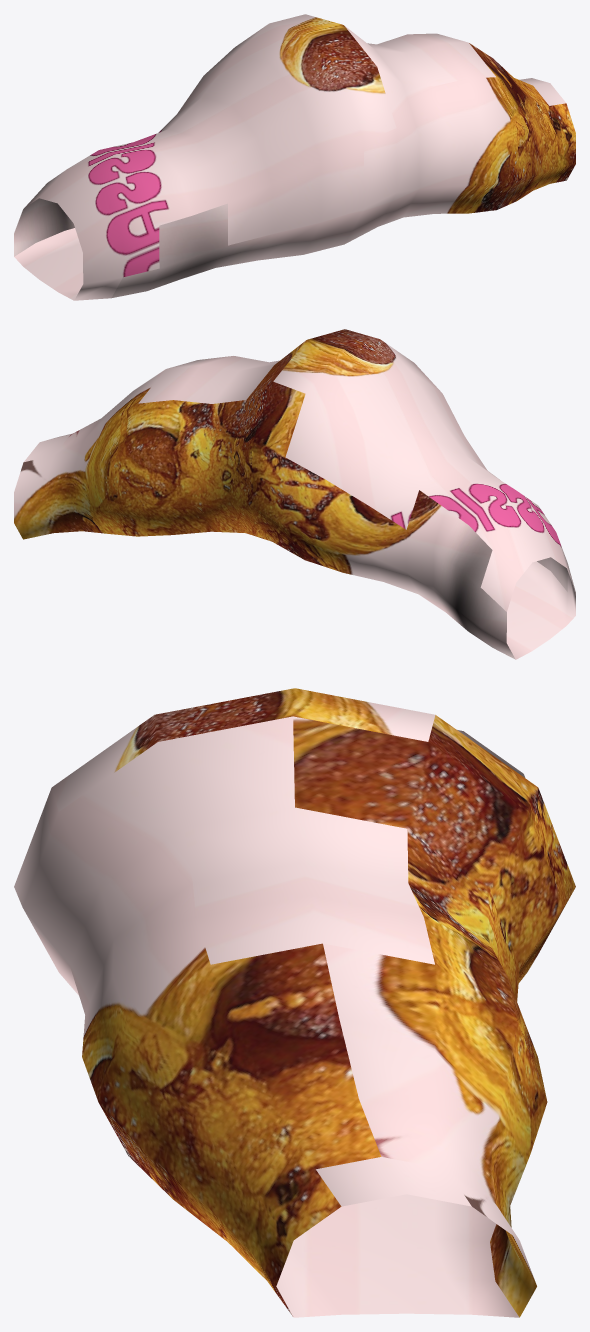
The model's file is prop_sausage_croissant.glb.
3 renders of one model, top to bottom at view 1: azimuth 30°, elevation 25°; view 2: azimuth 150°, elevation 25°; view 3: azimuth 270°, elevation 25°, orthographic. The views are drawn at different scales.
Parts seen in each view (by area): view 1: prop_sausage_croissant; view 2: prop_sausage_croissant; view 3: prop_sausage_croissant.
Part boxes in pixels (x1,y1,x2,y2): prop_sausage_croissant: (14, 14, 575, 300); prop_sausage_croissant: (14, 329, 575, 659); prop_sausage_croissant: (14, 688, 575, 1317).
Size of the model in its own units: 0.1397 by 0.0549 by 0.0707.
1 material, 1 textured.
